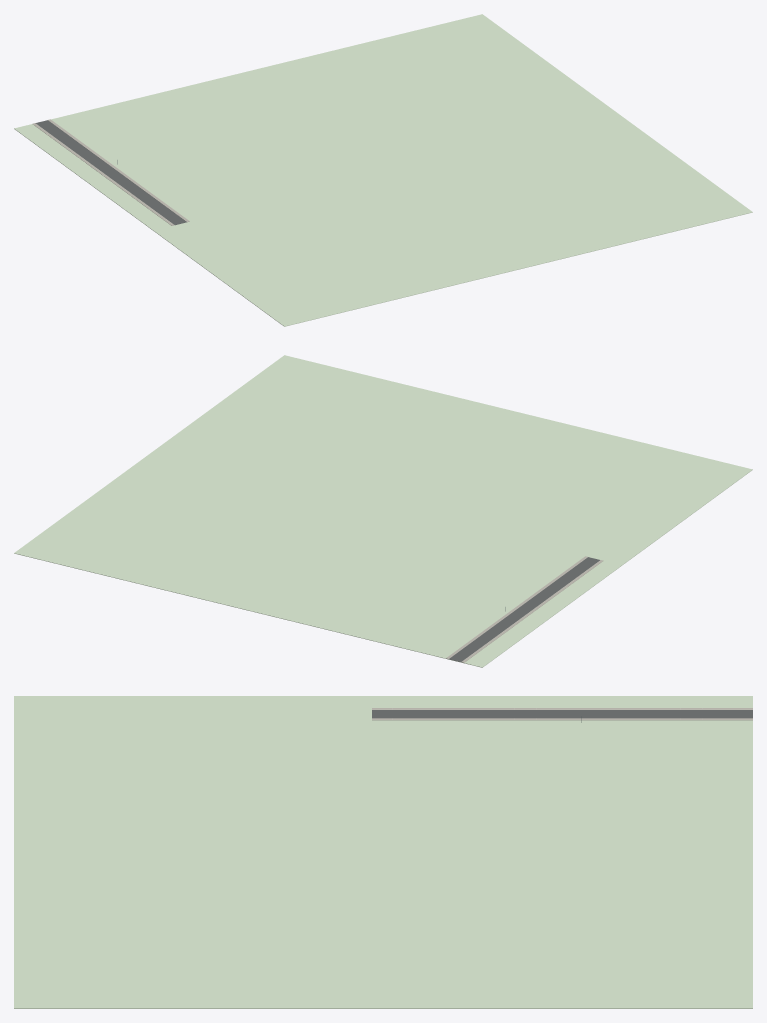
Rendered from chunk_4_7_low.glb.
3 views of the same model, one above another, from view 1: azimuth 30°, elevation 25°; view 2: azimuth 150°, elevation 25°; view 3: azimuth 270°, elevation 25° (orthographic). The views are drawn at different scales.
Visible parts, largest first — view 1: city_grass, city_world_asphalt, city_world_sidewalk; view 2: city_grass, city_world_asphalt, city_world_sidewalk; view 3: city_grass, city_world_asphalt, city_world_sidewalk.
Boxes of the visible parts, x1,y1,x2,y2 form: city_grass: (14, 14, 752, 326); city_world_asphalt: (35, 120, 186, 225); city_world_sidewalk: (32, 119, 189, 225); city_grass: (14, 355, 752, 667); city_world_asphalt: (449, 557, 599, 661); city_world_sidewalk: (446, 556, 603, 662); city_grass: (14, 696, 752, 1008); city_world_asphalt: (372, 710, 752, 718); city_world_sidewalk: (372, 708, 752, 720).
Bounding box in the file's own units: 512 × 5.42 × 512.
